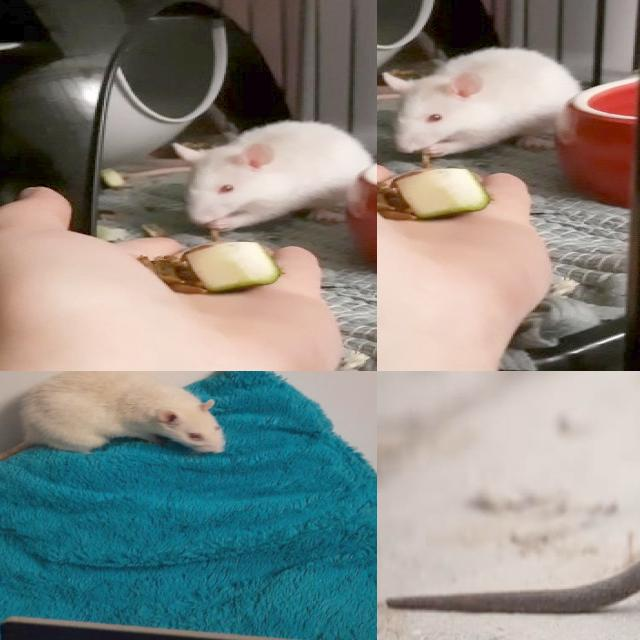rat: (384, 44, 594, 159), (175, 115, 374, 232), (11, 371, 223, 454)
